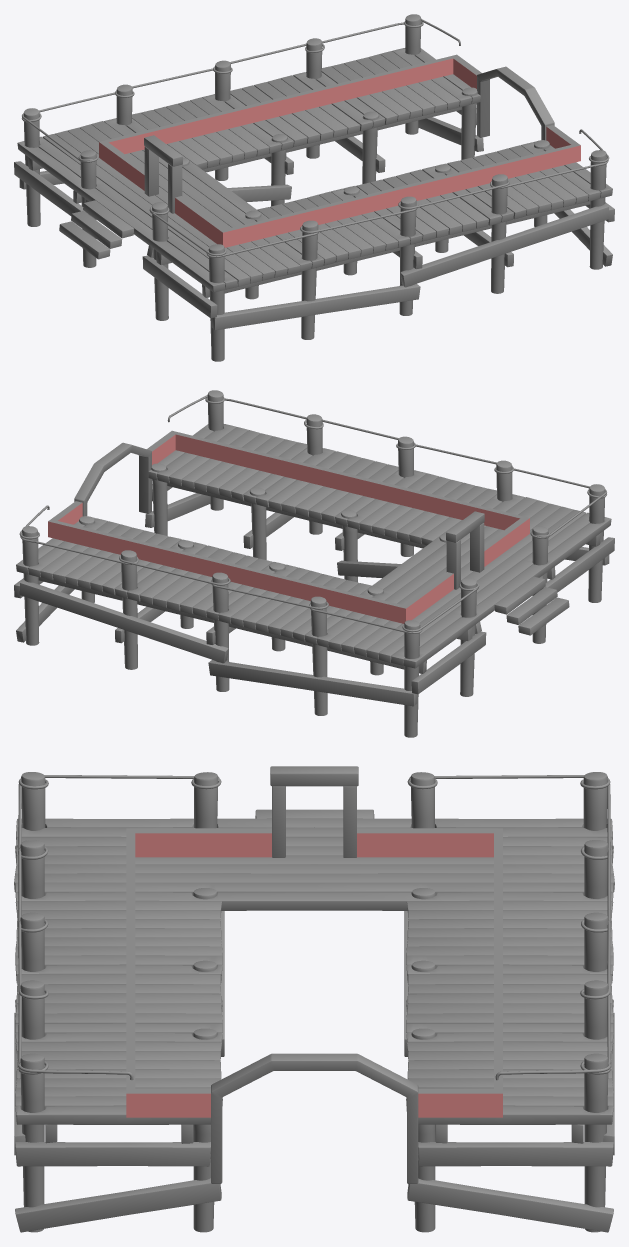
File: BoatHouse_Bottom.fbx
3 views of the same model, one above another, from view 1: azimuth 30°, elevation 25°; view 2: azimuth 150°, elevation 25°; view 3: azimuth 270°, elevation 25° (orthographic). The views are drawn at different scales.
Visible parts, largest first — view 1: SM_BoatHouse01_Boathouse_Bottom; view 2: SM_BoatHouse01_Boathouse_Bottom; view 3: SM_BoatHouse01_Boathouse_Bottom.
Boxes of the visible parts, x1,y1,x2,y2 form: SM_BoatHouse01_Boathouse_Bottom: [14, 14, 614, 361]; SM_BoatHouse01_Boathouse_Bottom: [14, 390, 614, 737]; SM_BoatHouse01_Boathouse_Bottom: [14, 766, 614, 1232].
Bounding box in the file's own units: 1588 × 465 × 1230.
